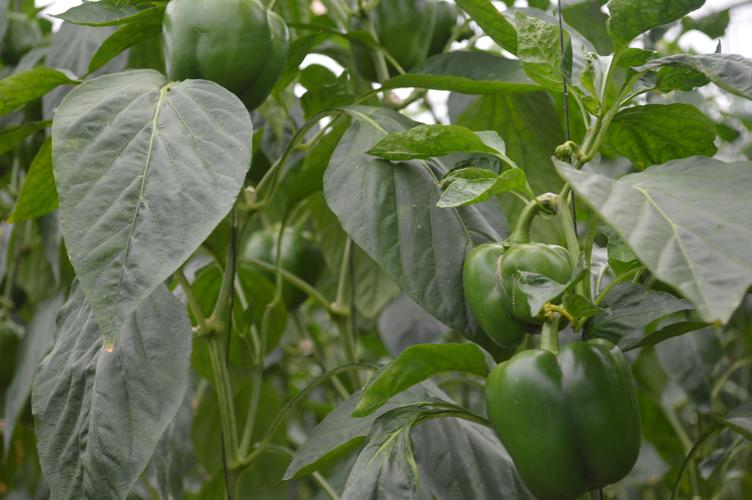BellPepper: (470, 335, 645, 498), (463, 219, 585, 343), (155, 1, 285, 107), (230, 226, 327, 312), (346, 1, 442, 87)
